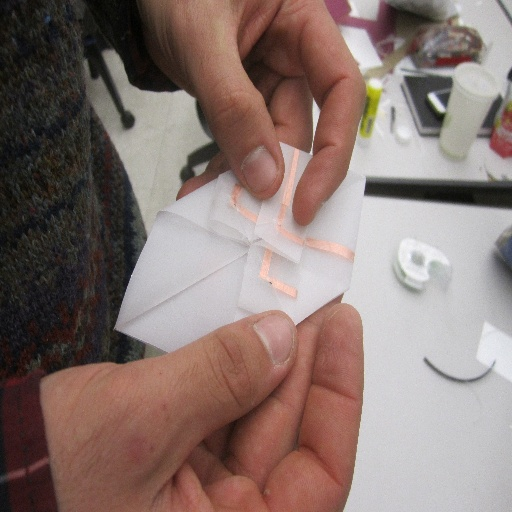hand: (39, 292, 364, 511), (132, 5, 371, 205)
